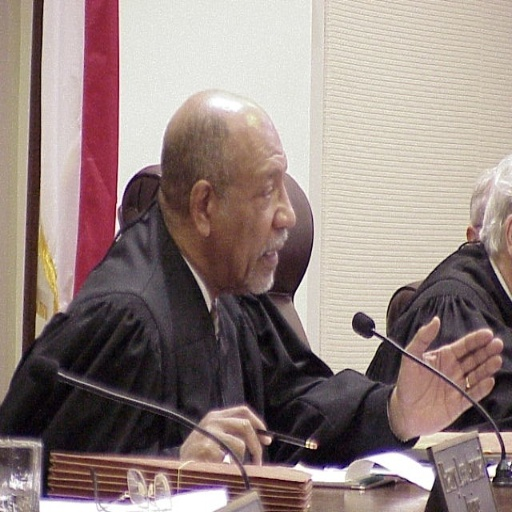hand: (393, 322, 496, 425), (179, 403, 276, 462)
